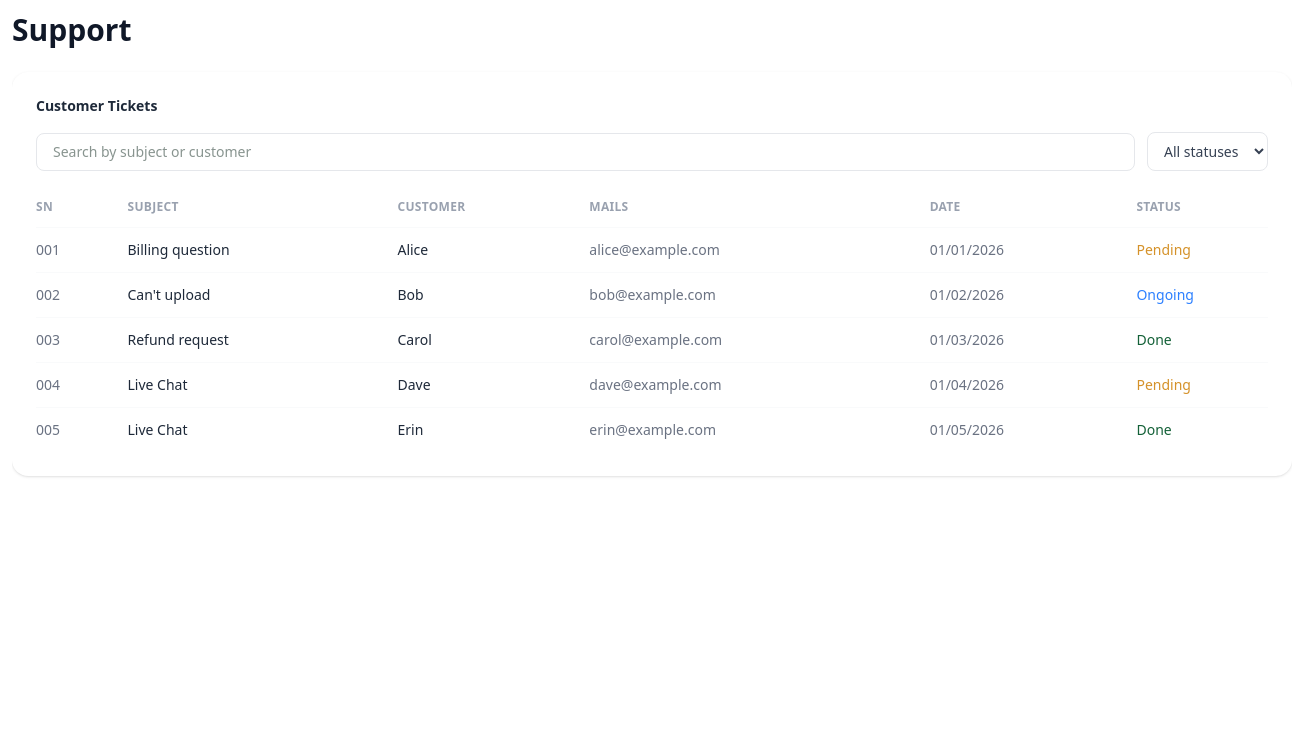
Test: AdminSupportPage › still lets support reply to an already-resolved ticket
Click the text "Refund request": (178, 340) 128,318 -> 398,362
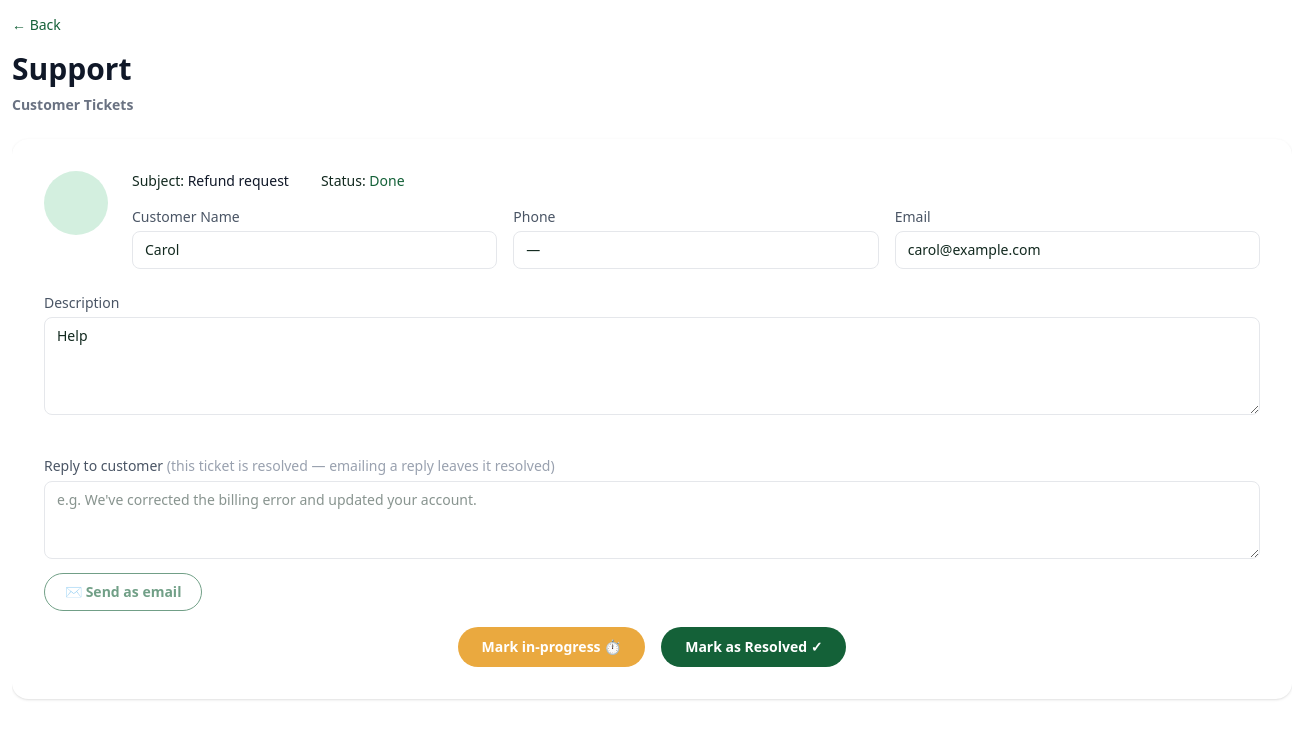
Now the text box with placeholder "We've corrected the billing error" is shown, box 44,481 -> 1260,559
Now the button "✉ Send as email" is shown, box 44,573 -> 202,611
Now the text "this ticket is resolved" is shown, box 167,456 -> 555,475
